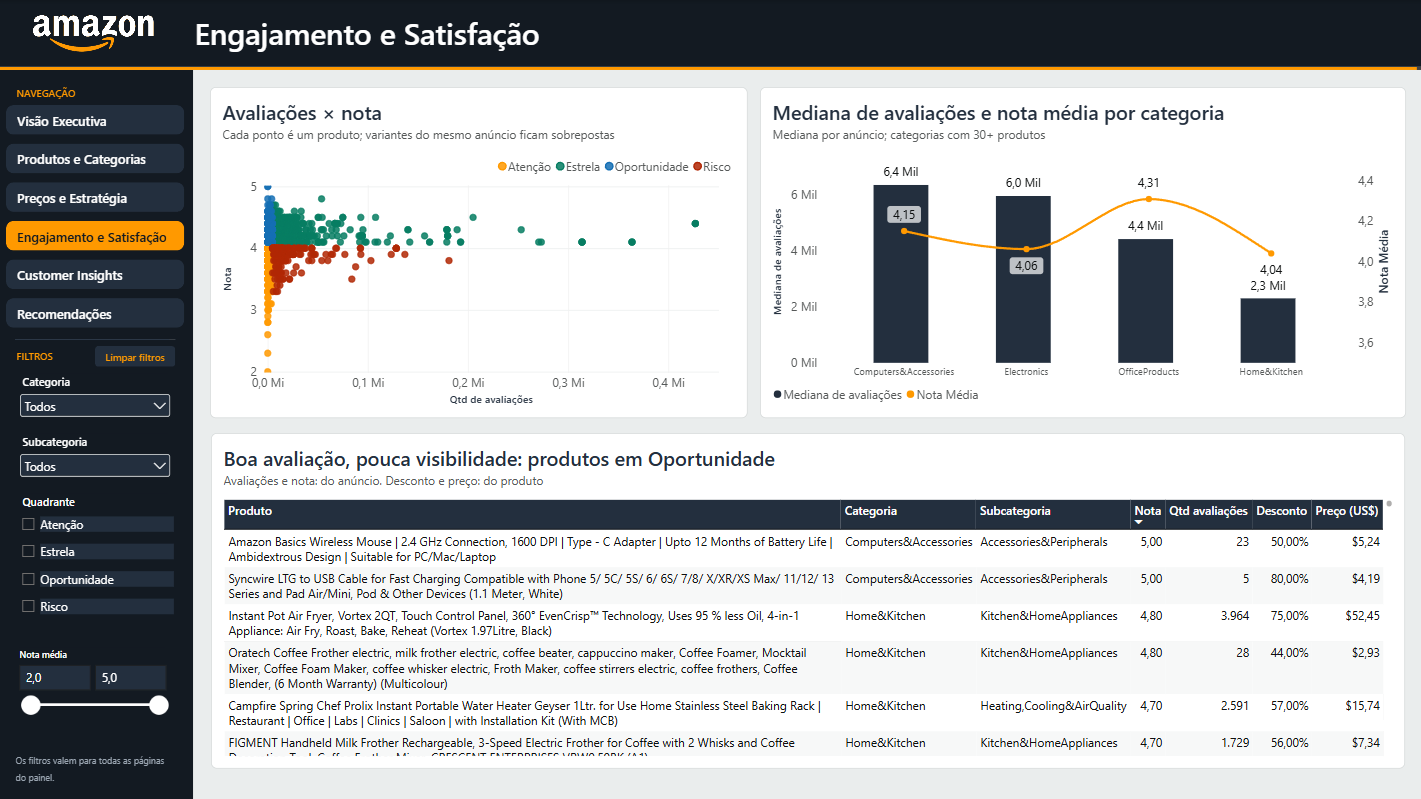

The page's visual inventory and layout, read from the dashboard file:
{"tool":"powerbi","page":{"name":"Engajamento e Satisfação","canvas":[1920,1080],"ordinal":3},"visuals":[{"type":"textbox","box":[0,0,1920,90],"z":0},{"type":"textbox","box":[0,94,264,986],"z":1000},{"type":"textbox","box":[0,90,1920,4],"z":2000},{"type":"pageNavigator","box":[12,142,240,300],"z":3000},{"type":"textbox","box":[24,112,216,24],"z":4000},{"type":"textbox","box":[24,456,216,1],"z":5000},{"type":"textbox","box":[24,466,216,24],"z":6000},{"type":"scatterChart","title":"Avaliações × nota","fields":{"Category":["dProdutos.product_id"],"Series":["dProdutos.quadrante"],"X":["Medidas.Média de avaliações"],"Y":["Medidas.Nota média"]},"box":[287.4,116.7,723.6,446.4],"z":7000},{"type":"lineStackedColumnComboChart","title":"Mediana de avaliações e nota média por categoria","fields":{"Category":["dProdutos.categoria_principal Hierarquia.categoria_principal","dProdutos.categoria_principal Hierarquia.categoria_nivel2"],"Y":["Medidas.Mediana de avaliações"],"Y2":["Medidas.media_rating"]},"box":[1027.1,116.7,869.5,446.4],"z":8000},{"type":"tableEx","title":"Boa avaliação, pouca visibilidade: produtos em Oportunidade","fields":{"Values":["dProdutos.product_name","dProdutos.categoria_principal","dProdutos.categoria_nivel2","Medidas.Nota média","Medidas.Total de avaliações","Medidas.Desconto médio (%)","Medidas.Preço com desconto médio (US$)"]},"box":[288,582.5,1608,451.5],"z":9000},{"type":"textbox","box":[23.3,1009.6,217.4,51.1],"z":10000},{"type":"image","box":[20.4,0,218.8,90.5],"z":11000},{"type":"slicer","fields":{"Values":["dProdutos.categoria_nivel2"]},"box":[16,576,232,66],"z":12000},{"type":"slicer","fields":{"Values":["dProdutos.categoria_principal"]},"box":[16,496,232,66],"z":13000},{"type":"slicer","fields":{"Values":["dProdutos.rating"]},"box":[11.7,865.2,232,110],"z":14000},{"type":"slicer","fields":{"Values":["dProdutos.quadrante"]},"box":[16,656.5,232,188.2],"z":15000},{"type":"actionButton","box":[132,466,108,28],"z":22000}]}

Visuals, with their boxes on the page's 1920x1080 design canvas (x1, y1, x2, y2). These are canvas units, not pixel positions in the 1421x799 screenshot, which may show the page scaled, cropped or inside an application window:
textbox: bbox(0, 0, 1920, 90)
textbox: bbox(0, 94, 264, 1080)
textbox: bbox(0, 90, 1920, 94)
pageNavigator: bbox(12, 142, 252, 442)
textbox: bbox(24, 112, 240, 136)
textbox: bbox(24, 456, 240, 457)
textbox: bbox(24, 466, 240, 490)
"Avaliações × nota" scatterChart: bbox(287, 117, 1011, 563)
"Mediana de avaliações e nota média por categoria" lineStackedColumnComboChart: bbox(1027, 117, 1897, 563)
"Boa avaliação, pouca visibilidade: produtos em Oportunidade" tableEx: bbox(288, 582, 1896, 1034)
textbox: bbox(23, 1010, 241, 1061)
image: bbox(20, 0, 239, 90)
slicer - dProdutos.categoria_nivel2: bbox(16, 576, 248, 642)
slicer - dProdutos.categoria_principal: bbox(16, 496, 248, 562)
slicer - dProdutos.rating: bbox(12, 865, 244, 975)
slicer - dProdutos.quadrante: bbox(16, 656, 248, 845)
actionButton: bbox(132, 466, 240, 494)
